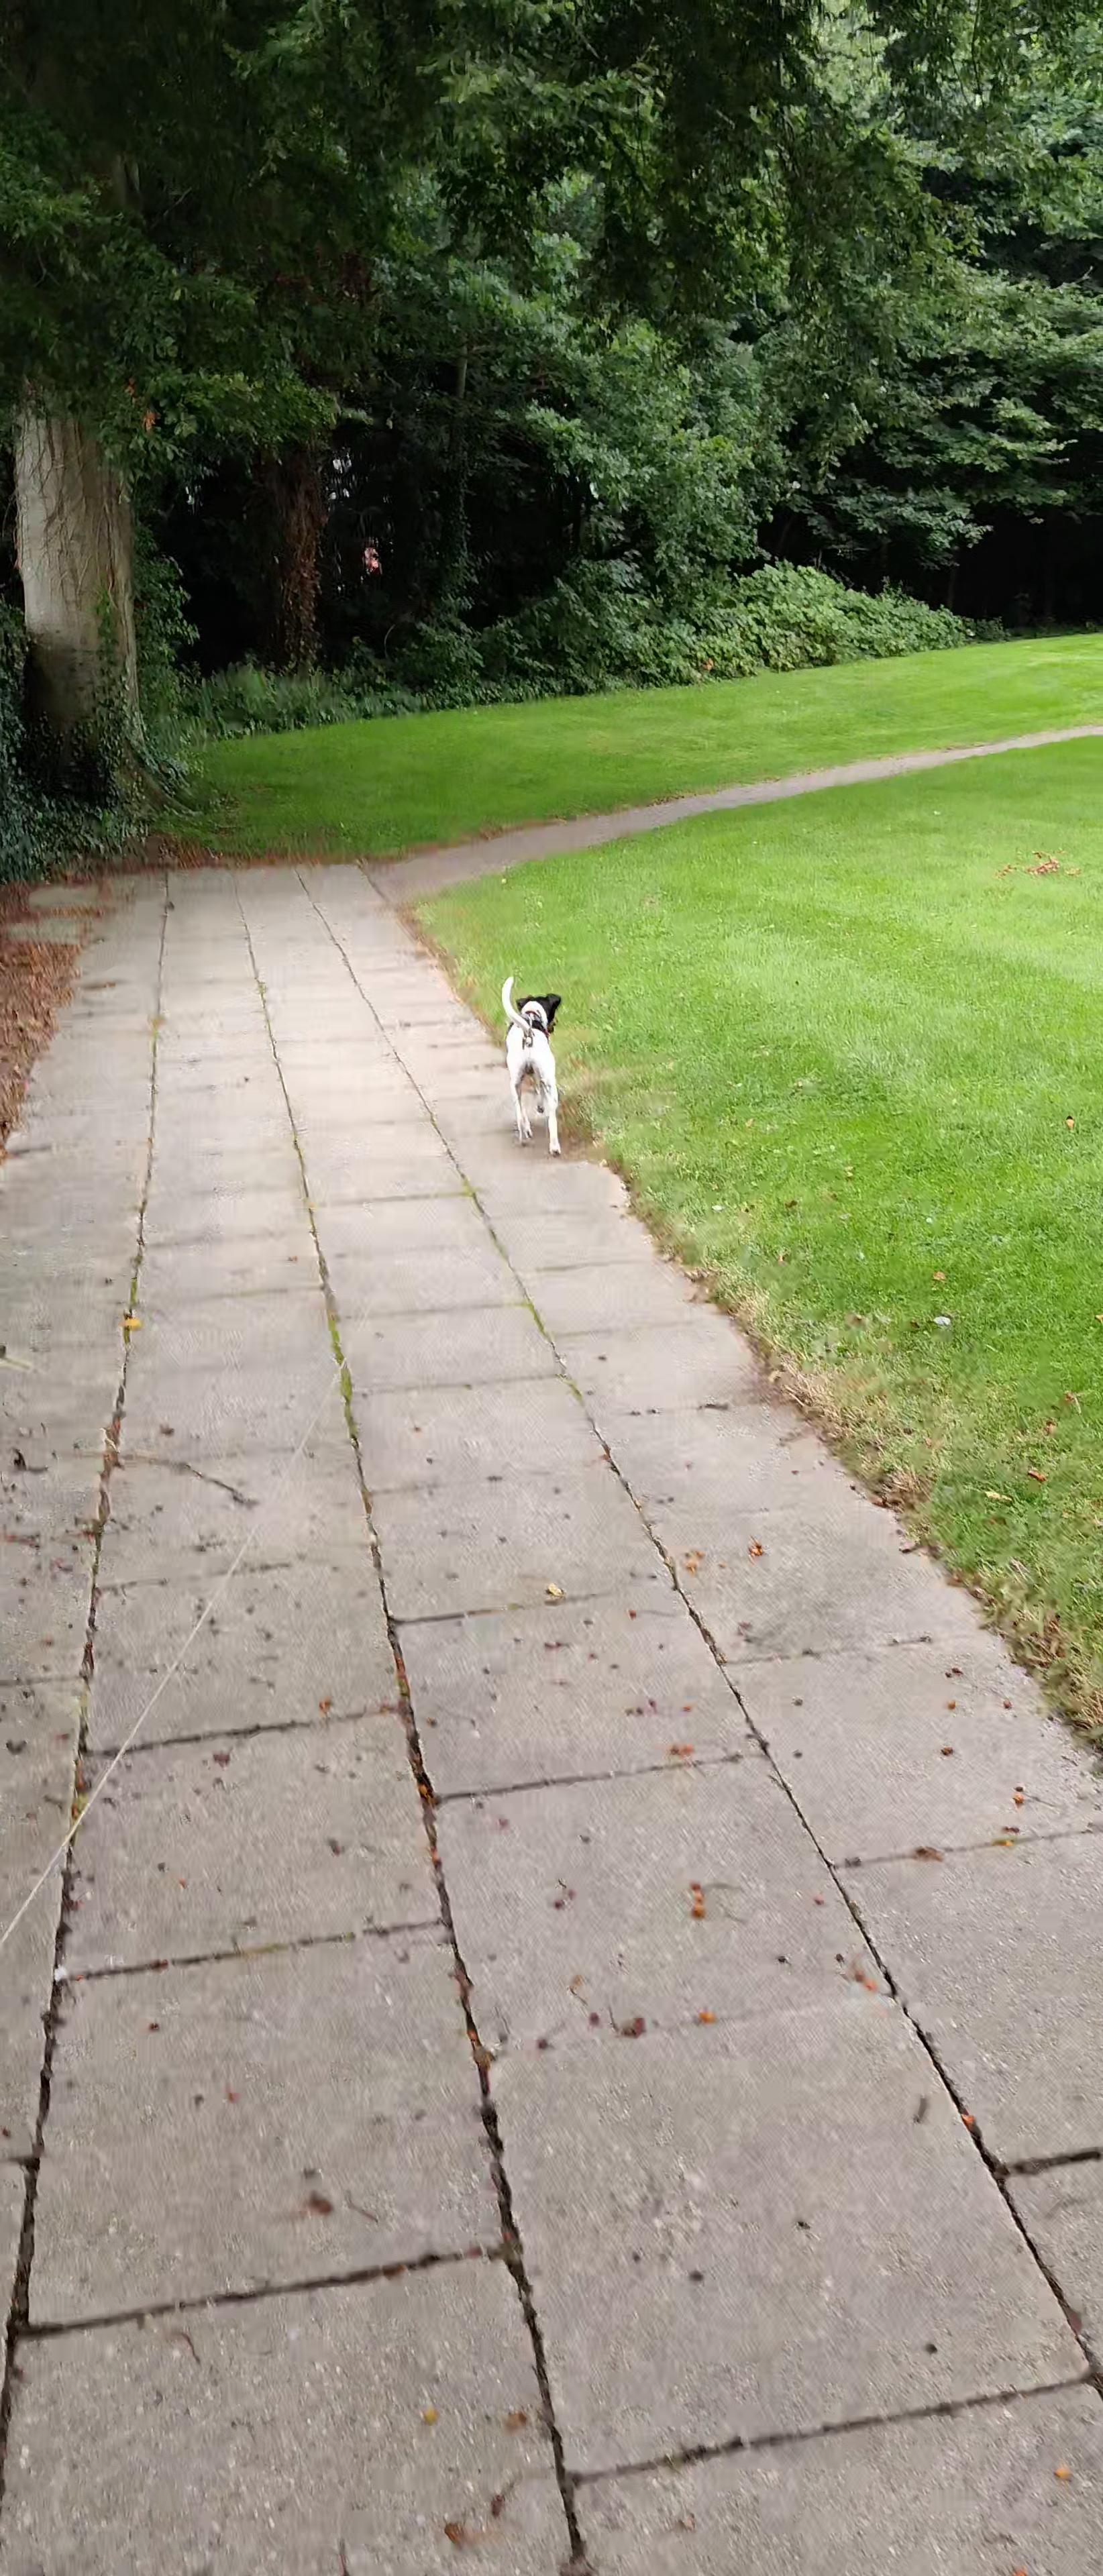Dog: (493, 971, 565, 1161)
